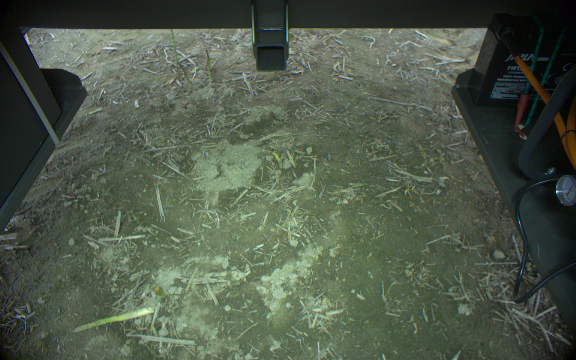aspa: (71, 305, 155, 334), (166, 28, 184, 85), (202, 48, 214, 87)
